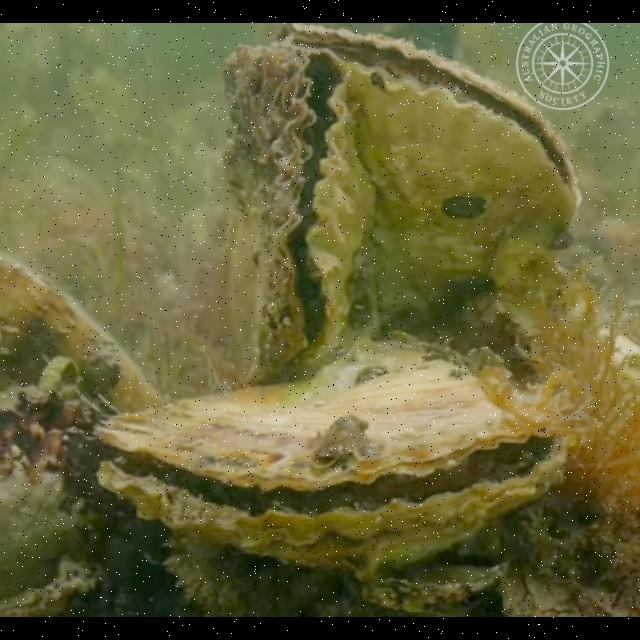Oyster-Closed: (0, 248, 170, 436)
Oyster-Open: (95, 334, 570, 584), (276, 24, 580, 352), (223, 44, 377, 390)
